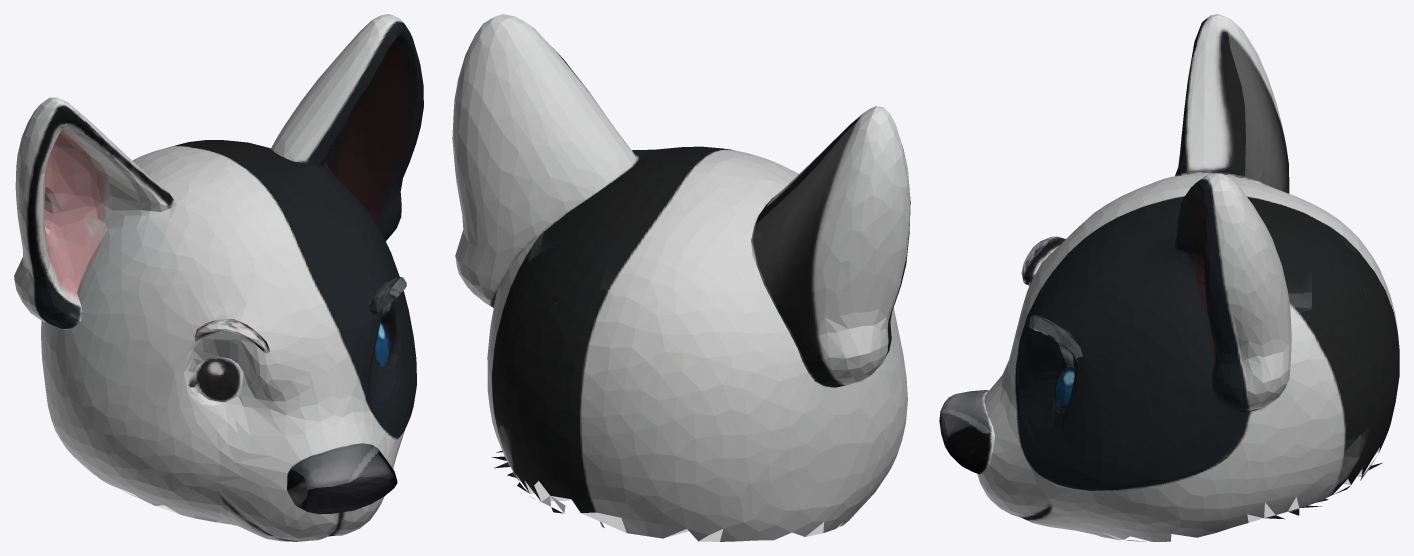
The model's file is cabezareconstruida.glb.
The picture shows the model from 3 angles, left to right: view 1: azimuth 30°, elevation 25°; view 2: azimuth 150°, elevation 25°; view 3: azimuth 270°, elevation 25°; orthographic projection. The views are drawn at different scales.
Visible parts, largest first — view 1: geometry_0.001; view 2: geometry_0.001; view 3: geometry_0.001.
Boxes of the visible parts, x1,y1,x2,y2 form: geometry_0.001: (14, 14, 423, 541); geometry_0.001: (452, 14, 910, 541); geometry_0.001: (939, 14, 1399, 541).
Bounding box in the file's own units: 0.3218 × 0.3274 × 0.3239.
1 material, 1 textured.
